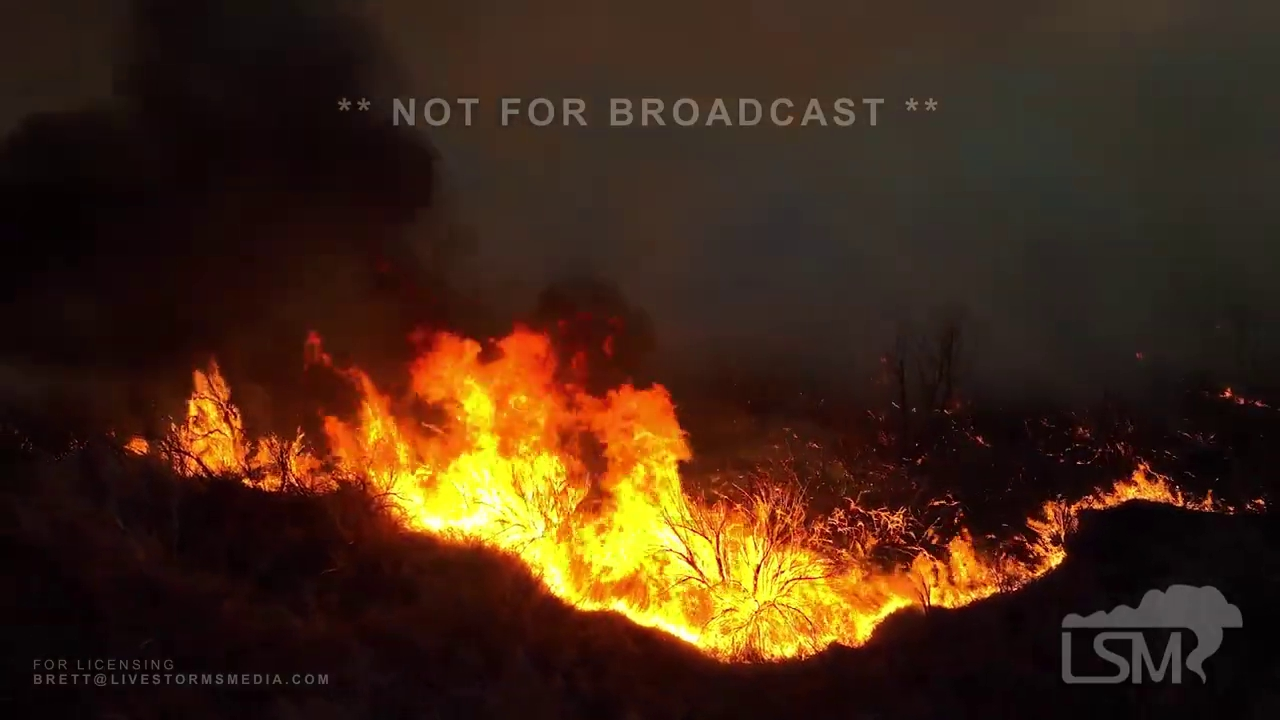forest_fire: (128, 327, 1233, 660), (849, 499, 854, 501)
